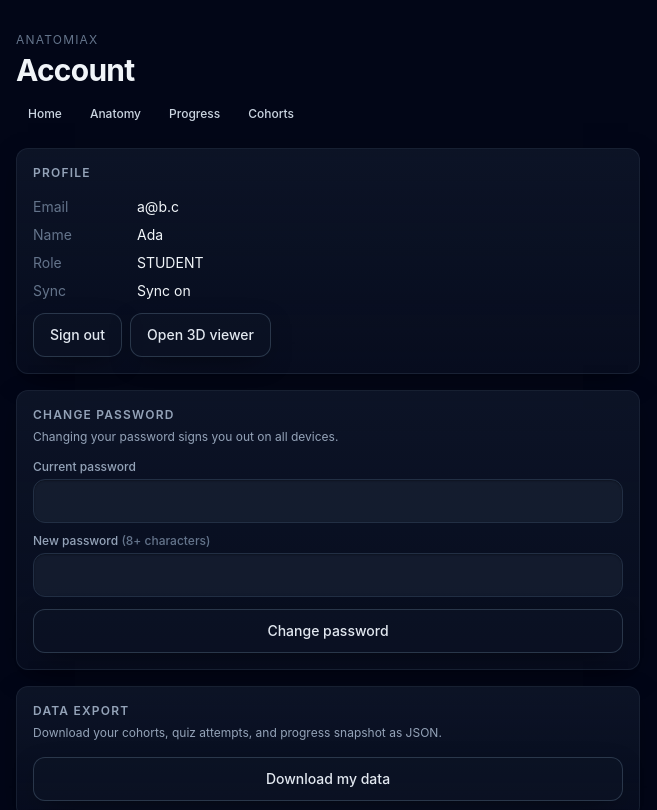
Test: account page (8.20.2) › exports data as a browser download
What coordinates should you click on to do the following:
click the button with test id "account-export"
I would click on:
 (328, 779)
Its box is x1=33 y1=757 x2=623 y2=801.
(page scrolled)
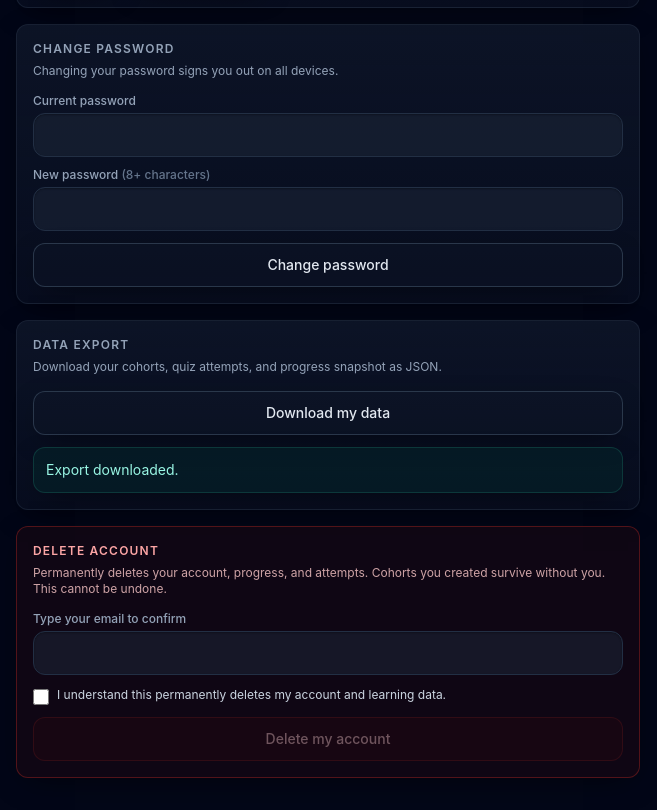
Result: the message "Export downloaded." is shown at x1=33 y1=447 x2=623 y2=493
